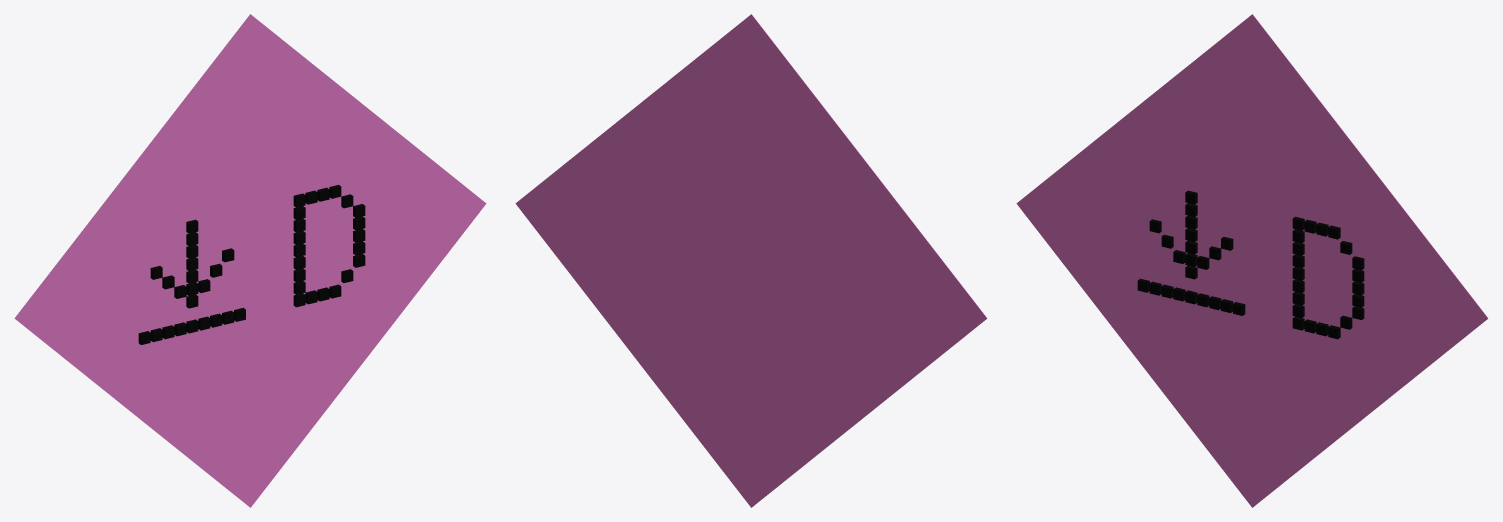
File: ChangeAreaTypeD.fbx
The picture shows the model from 3 angles, left to right: view 1: azimuth 30°, elevation 25°; view 2: azimuth 150°, elevation 25°; view 3: azimuth 330°, elevation 25°; orthographic projection.
Visible parts, largest first — view 1: Cube.045; view 2: Cube.045; view 3: Cube.045.
Boxes of the visible parts, bbox=[...] form: Cube.045: bbox=[14, 14, 486, 507]; Cube.045: bbox=[515, 14, 987, 507]; Cube.045: bbox=[1016, 14, 1488, 507].
Bounding box in the file's own units: 198 × 198 × 2.1.
